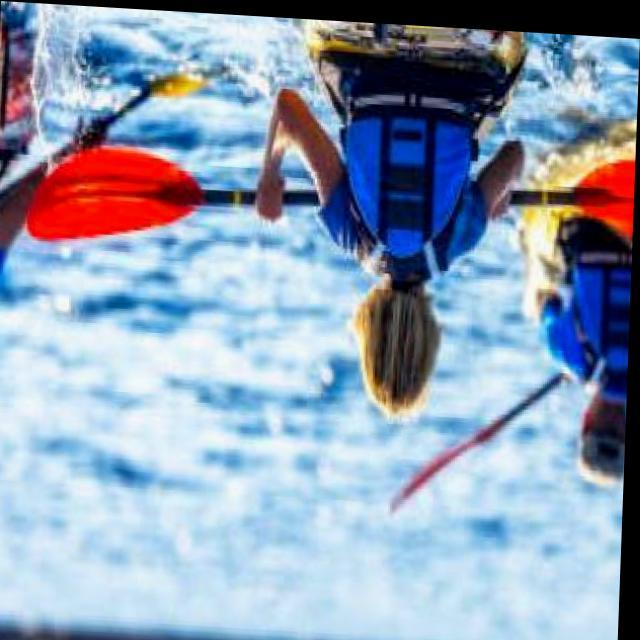kayak: (300, 14, 525, 129), (520, 113, 637, 282), (5, 37, 31, 129)
